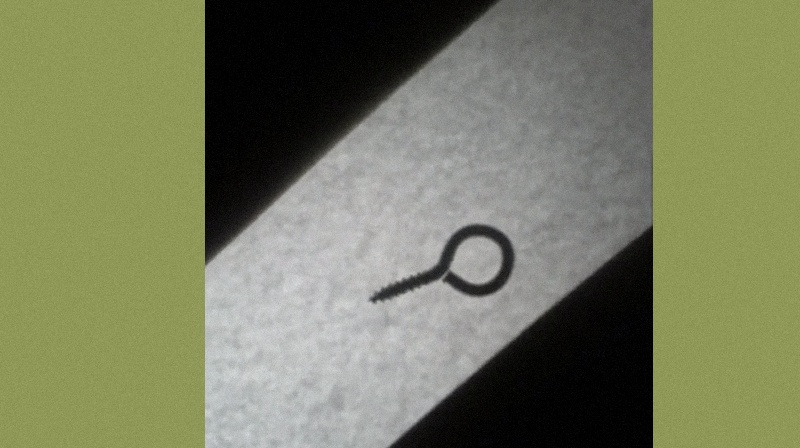O001: (365, 217, 517, 305)
